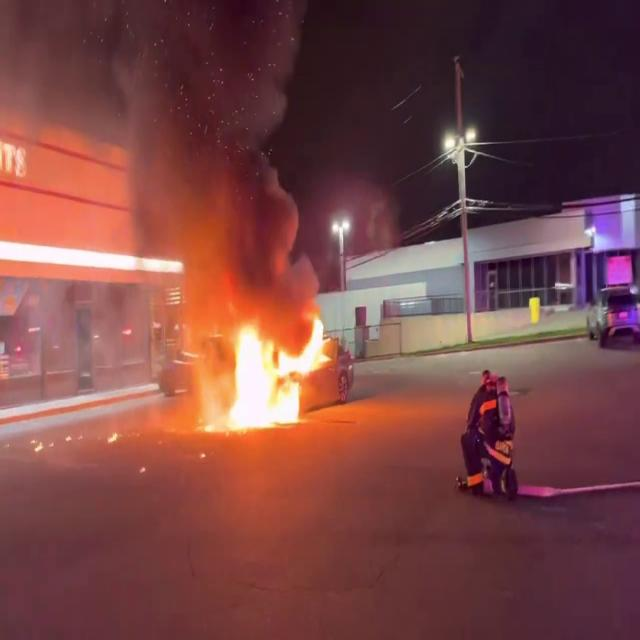Fire: (195, 304, 332, 434)
Smoke: (62, 0, 312, 292)
